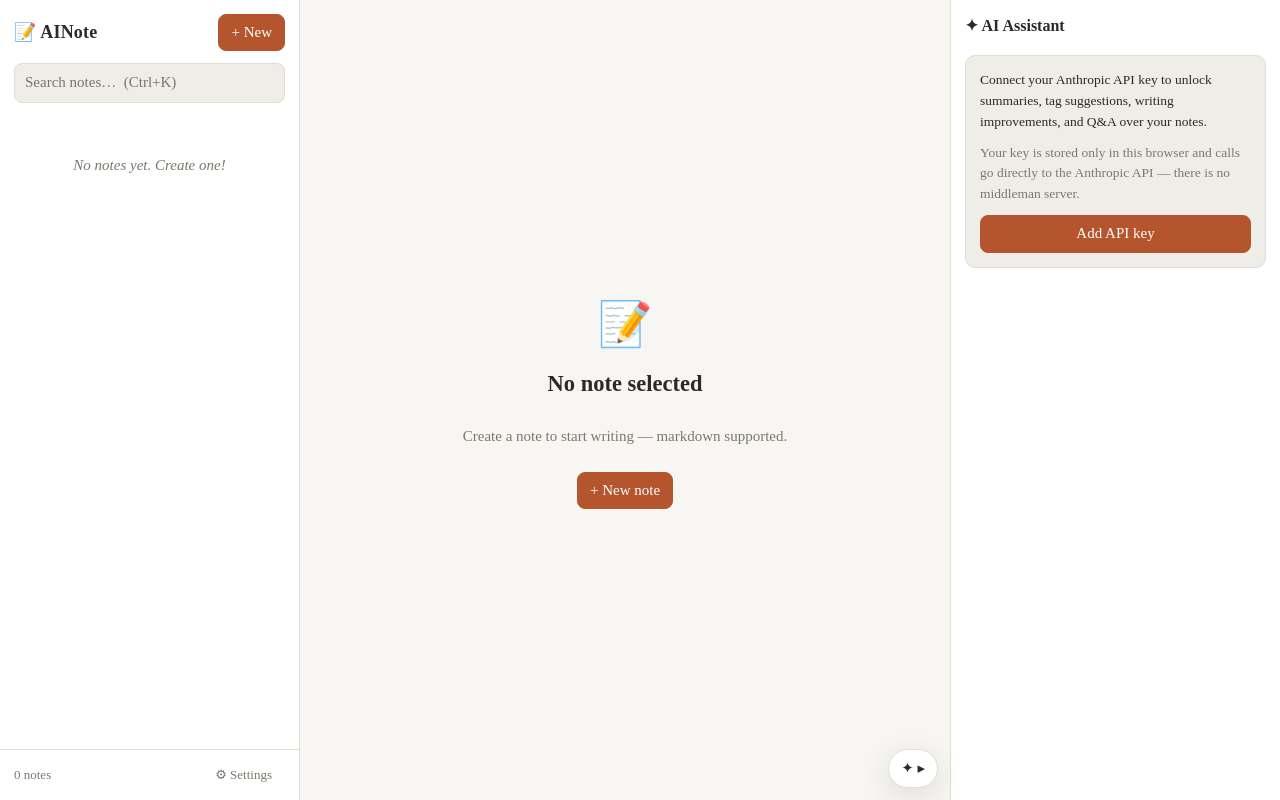
it: App › filters notes with search
Click the button "+ New": click(252, 33) [218,14,285,51]
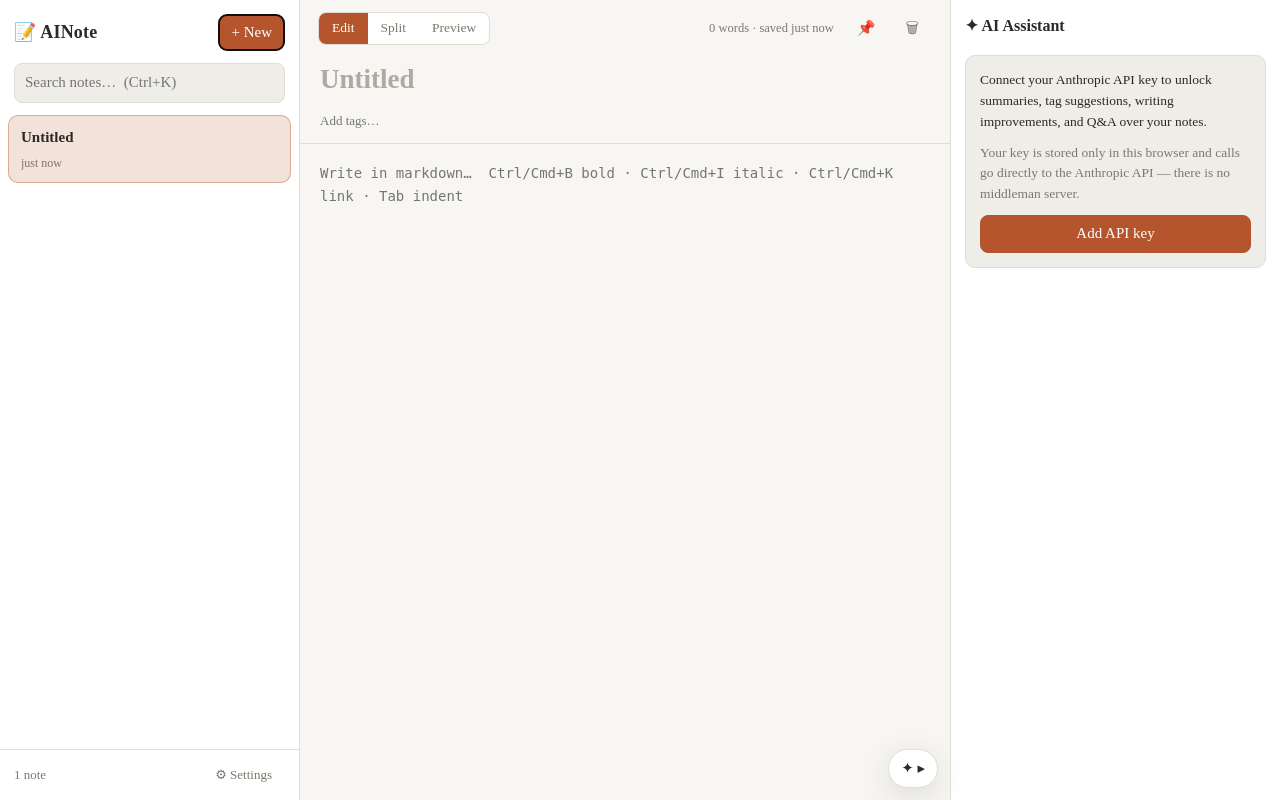
In the field named "Note title": (625, 75) [300,47,950,103], type "Grocery list"
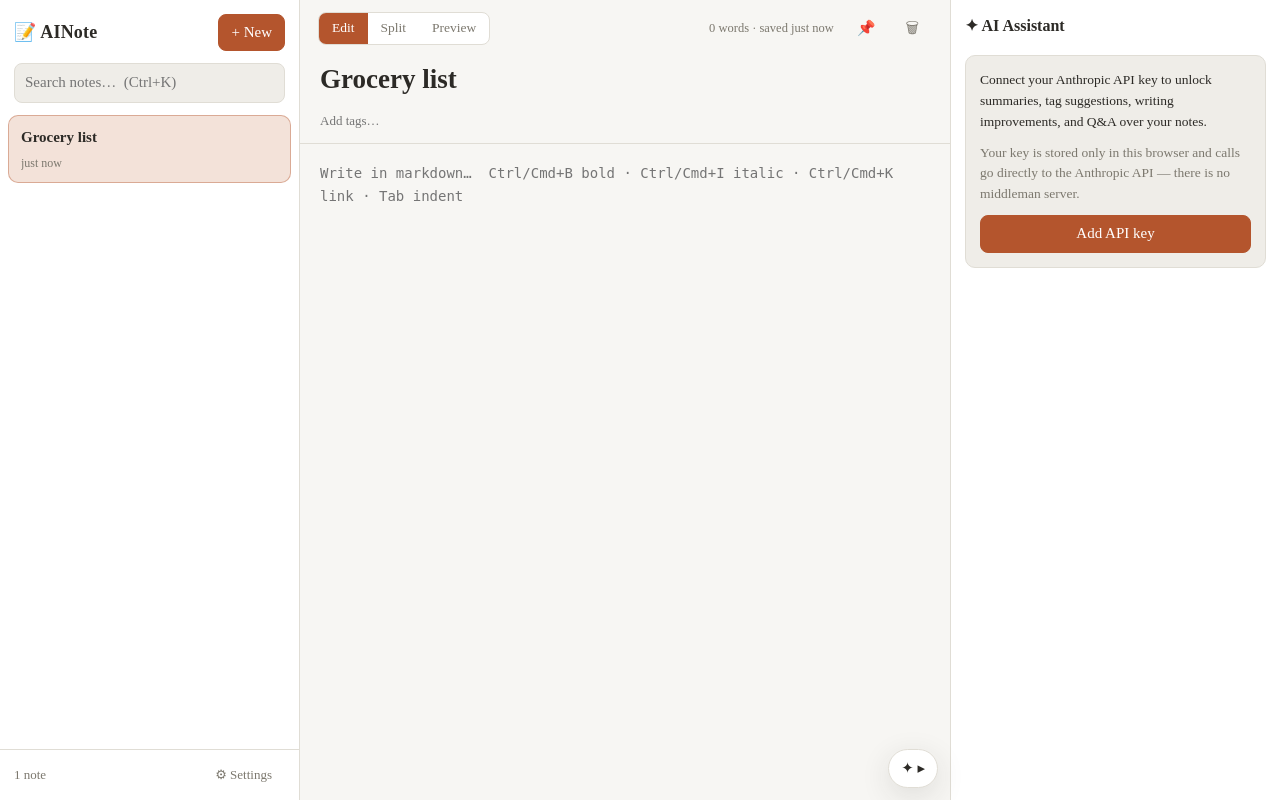
In the search field labelled "Search notes": (150, 83) [14,63,285,103], type "grocery"
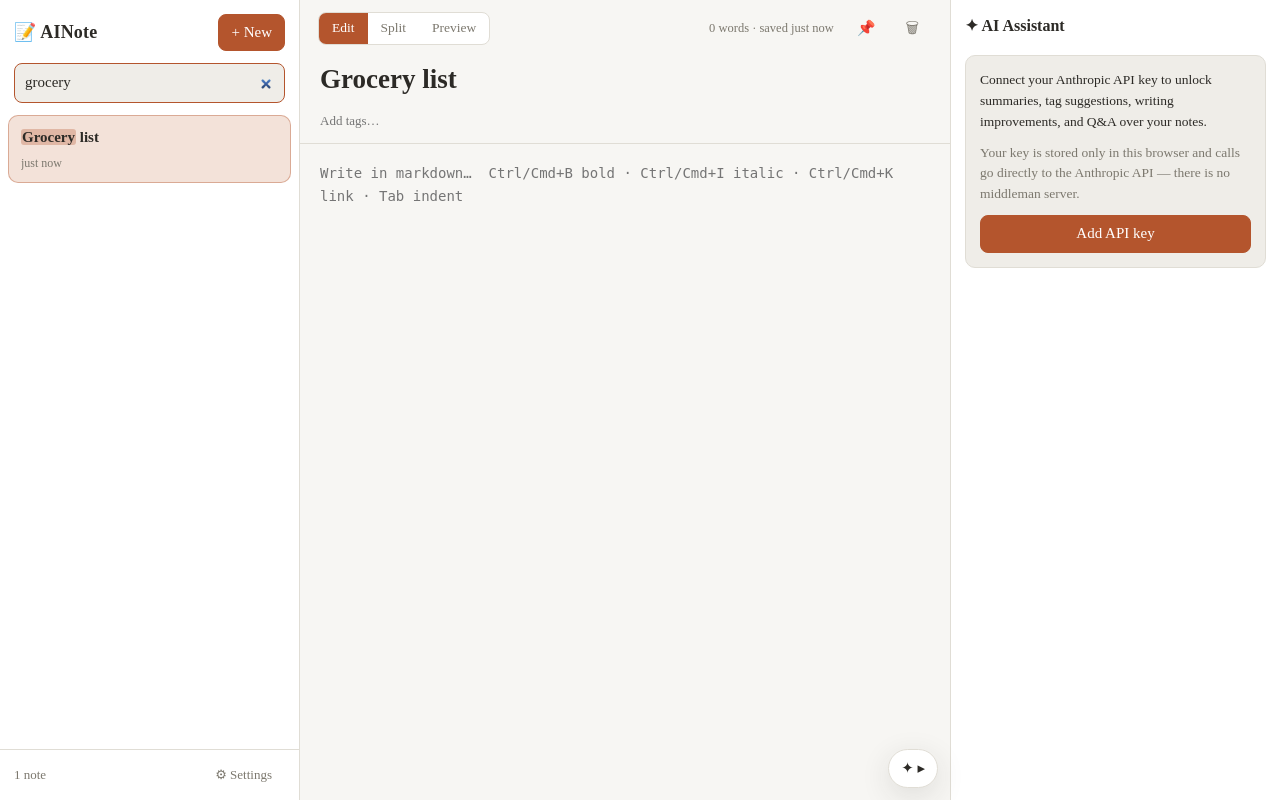
expect the button "Grocery list just now" is shown: met, box [8,114,291,183]
Replace the text in the search field named "Search notes" with "zzz-no-match": (150, 83) [14,63,285,103]
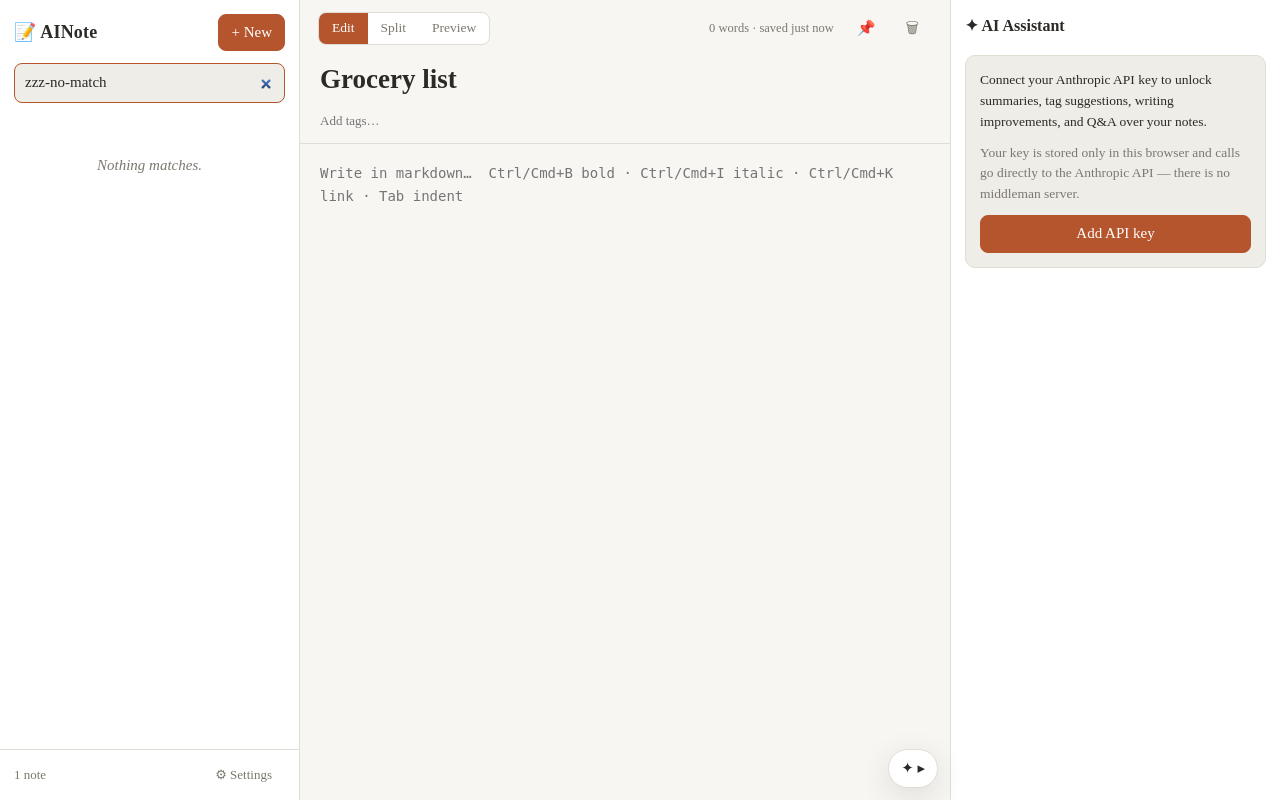
expect the text "Nothing matches." is shown: met, box [97,156,202,172]
